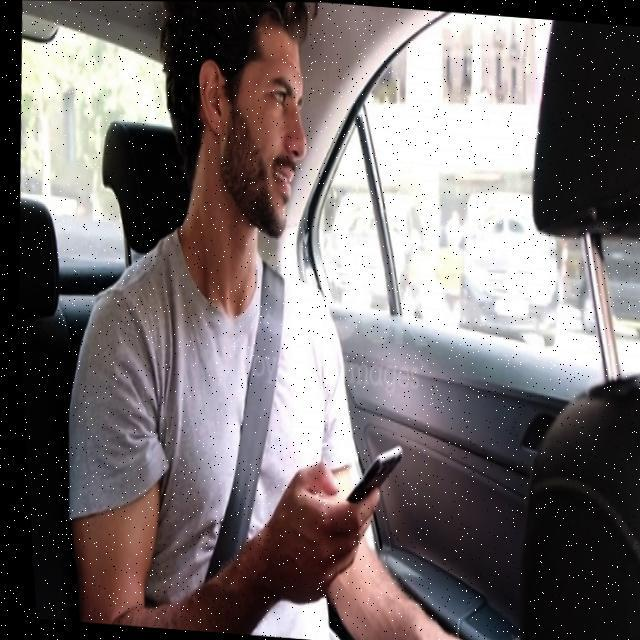PhoneCall: (329, 436, 402, 511)
